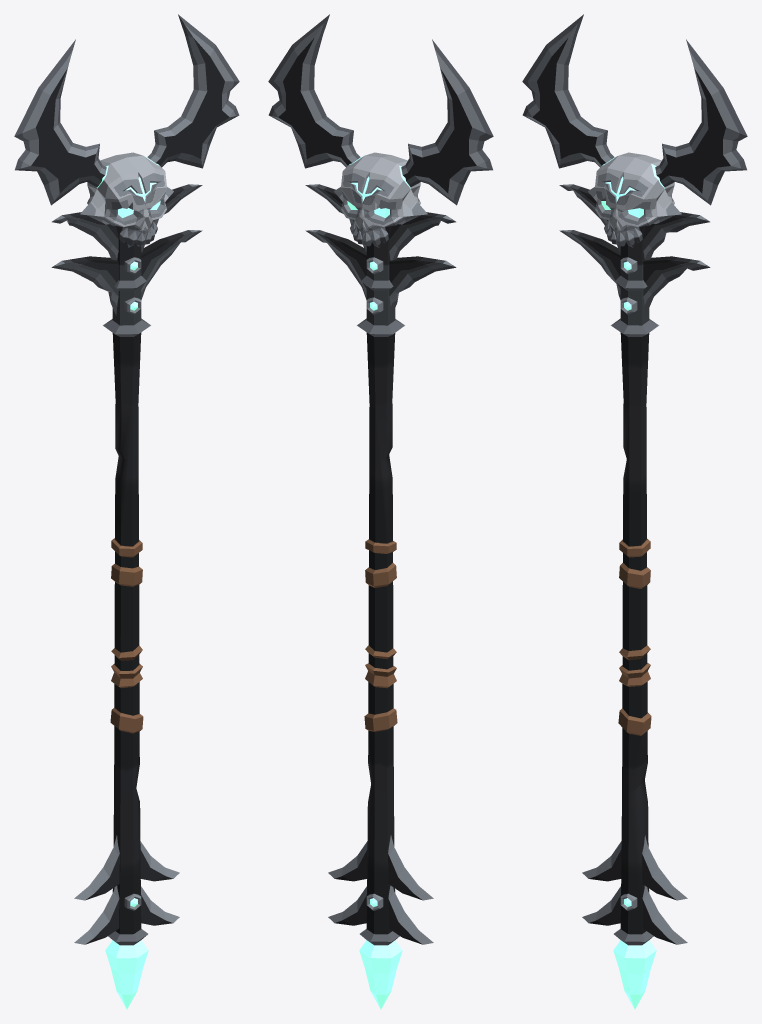
File: SM_Wep_Staff_01.fbx
3 views of the same model, side by side, from view 1: azimuth 30°, elevation 25°; view 2: azimuth 150°, elevation 25°; view 3: azimuth 330°, elevation 25° (orthographic).
Visible parts, largest first — view 1: SM_Wep_Staff_01; view 2: SM_Wep_Staff_01; view 3: SM_Wep_Staff_01.
Boxes of the visible parts, x1=… form: SM_Wep_Staff_01: x1=14, y1=14, x2=239, y2=1009; SM_Wep_Staff_01: x1=268, y1=14, x2=493, y2=1009; SM_Wep_Staff_01: x1=522, y1=14, x2=747, y2=1009.
Size of the model in its own units: 51.52 by 215 by 15.86.
